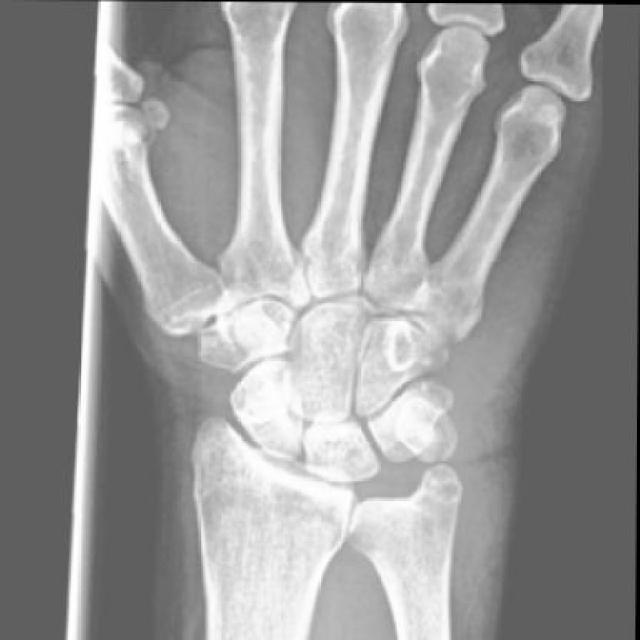Fracture: (395, 374, 470, 459)
